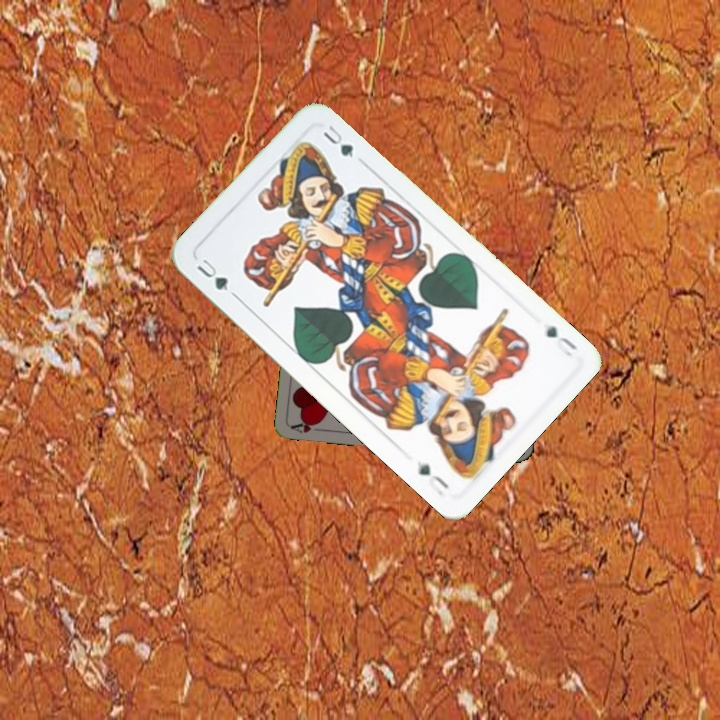GU: (192, 253, 231, 294), (541, 322, 581, 359)
HA: (289, 416, 329, 436)
